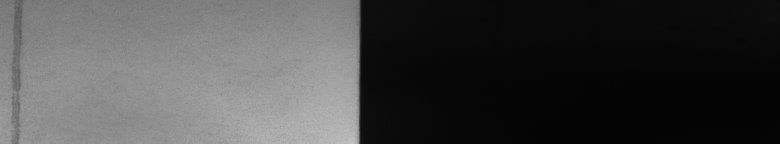hd: (9, 4, 27, 136)
